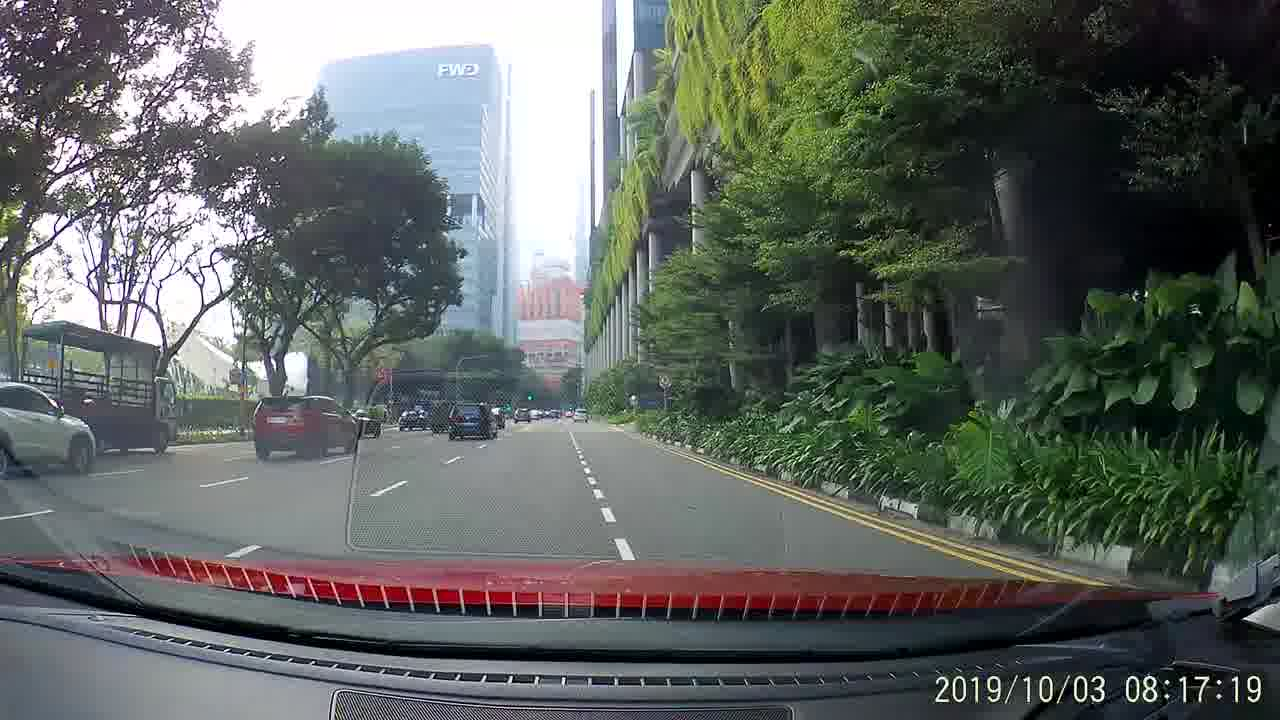car: (2, 379, 99, 474), (252, 392, 358, 459), (445, 400, 499, 441), (571, 407, 591, 426)
